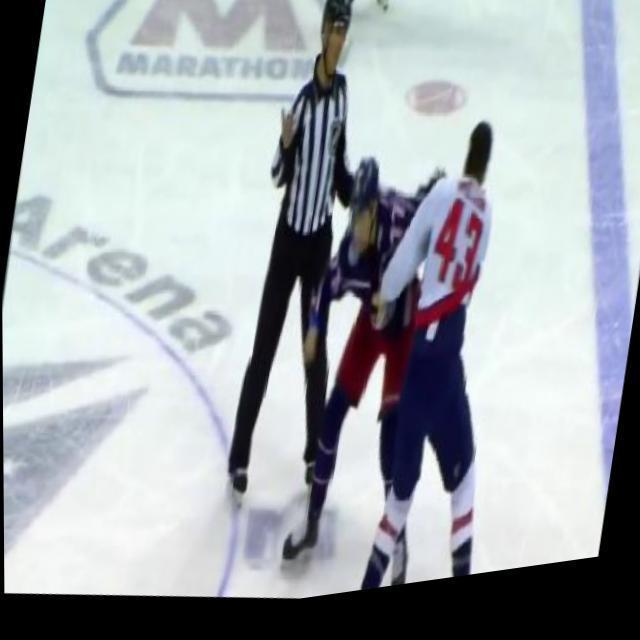fight: (263, 97, 546, 611)
